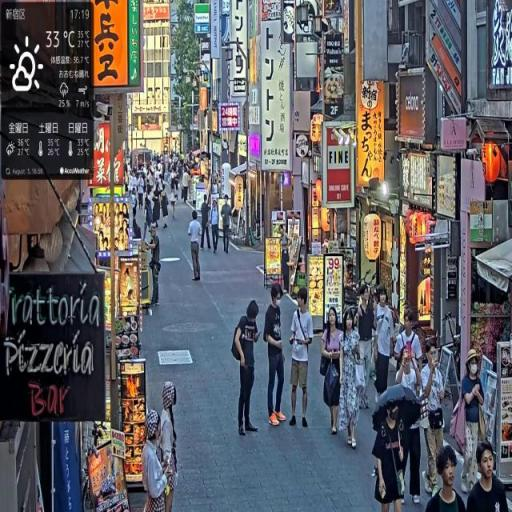person: (141, 383, 179, 512), (457, 352, 487, 500), (397, 342, 424, 506), (232, 300, 262, 440), (372, 394, 407, 512), (287, 288, 316, 430), (338, 307, 364, 451), (264, 285, 288, 428), (467, 442, 510, 512), (321, 308, 344, 437), (426, 444, 469, 512), (355, 285, 377, 411), (189, 210, 204, 287), (221, 195, 234, 257), (211, 198, 221, 255)
